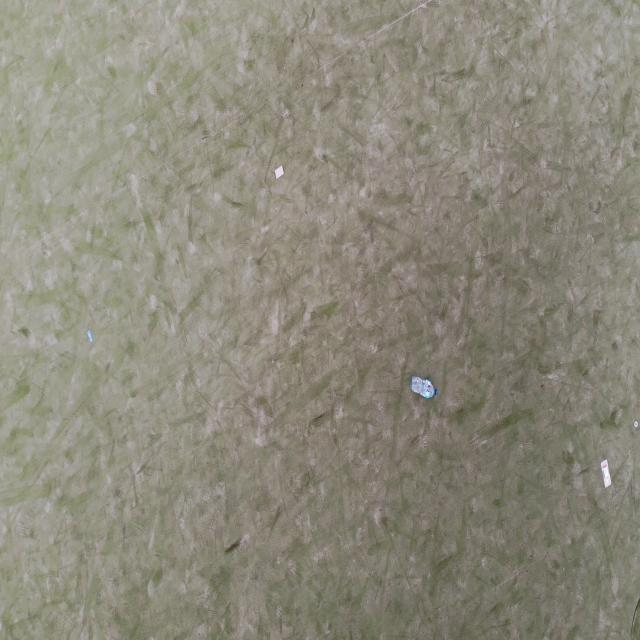rubbish: (411, 377, 438, 398), (599, 458, 612, 489), (275, 162, 285, 180), (86, 330, 93, 343), (635, 420, 637, 428)
